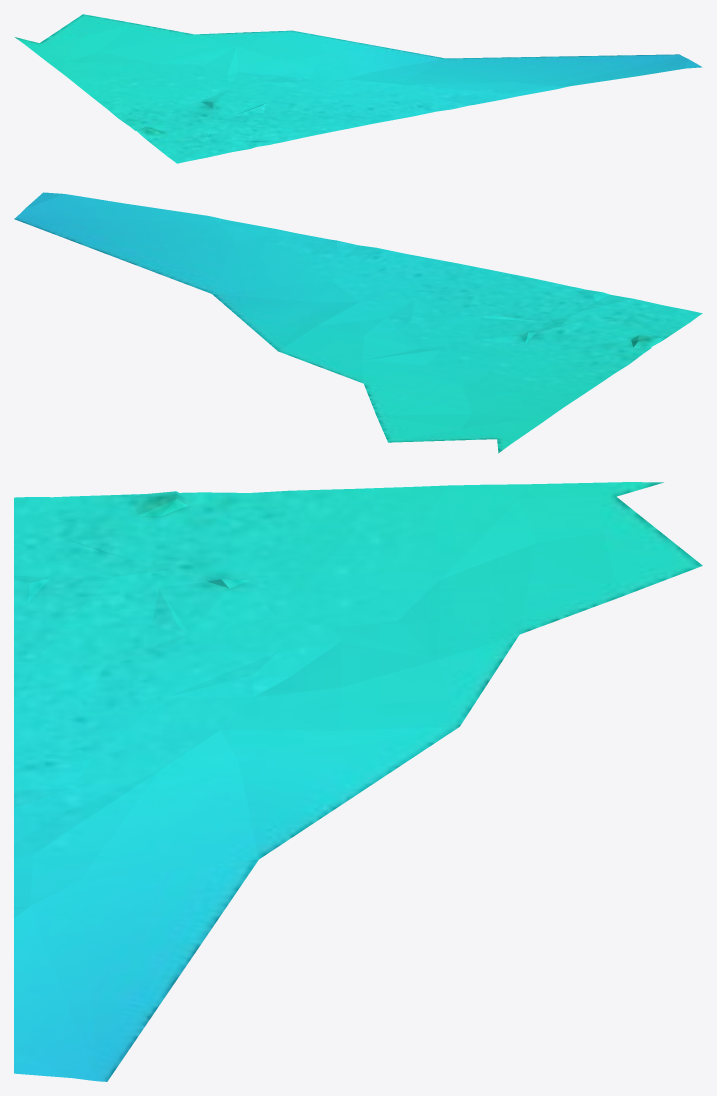
The picture shows the model from 3 angles, top to bottom: view 1: azimuth 30°, elevation 25°; view 2: azimuth 150°, elevation 25°; view 3: azimuth 270°, elevation 25°; orthographic projection. The views are drawn at different scales.
Size of the model in its own units: 13.06 by 1.04 by 7.42.
1 material, 1 textured.
